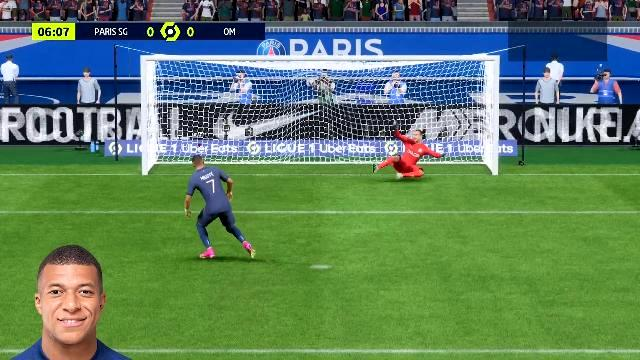bottom-left: (152, 125, 274, 177)
bottom-right: (379, 123, 488, 175)
center-down: (276, 123, 378, 177)
center-up: (276, 66, 378, 122)
football: (305, 78, 319, 90)
goalkeeper: (369, 122, 447, 182)
player: (183, 154, 257, 264)
top-left: (152, 65, 274, 123)
top-right: (379, 65, 488, 123)
